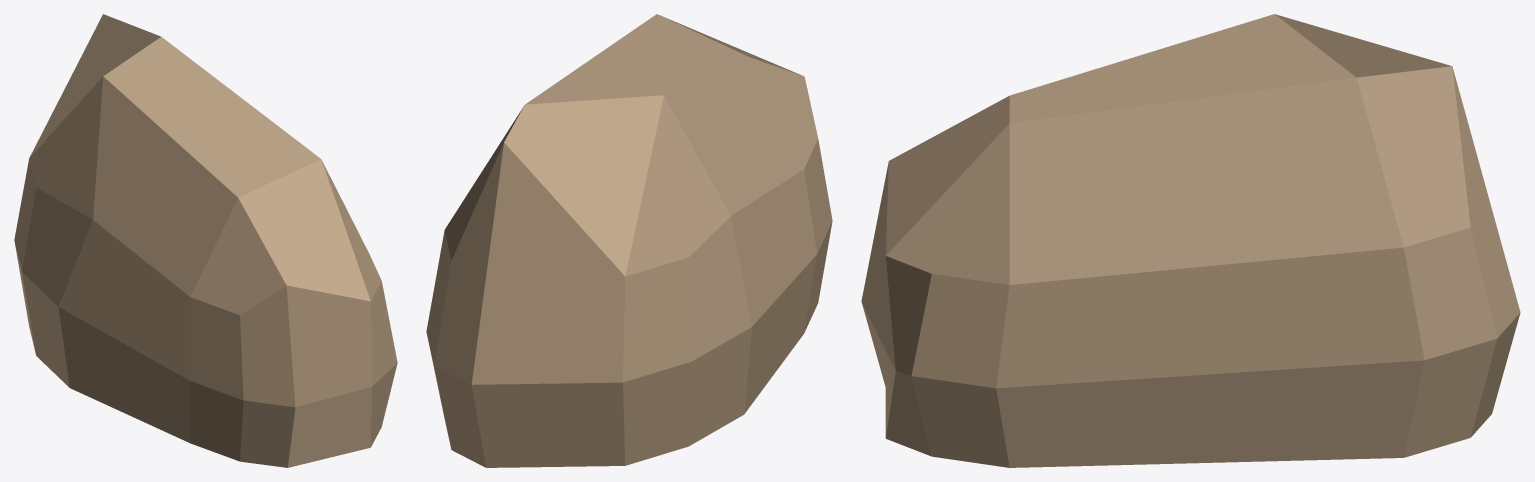
The model's file is rock_4.FBX.
The picture shows the model from 3 angles, left to right: view 1: azimuth 30°, elevation 25°; view 2: azimuth 150°, elevation 25°; view 3: azimuth 270°, elevation 25°; orthographic projection. The views are drawn at different scales.
Parts seen in each view (by area): view 1: rock_4; view 2: rock_4; view 3: rock_4.
Boxes of the visible parts, <box> form: rock_4: <box>14,14,397,467</box>; rock_4: <box>426,14,832,467</box>; rock_4: <box>861,14,1520,467</box>.
Size of the model in its own units: 1693 by 1997 by 3346.
